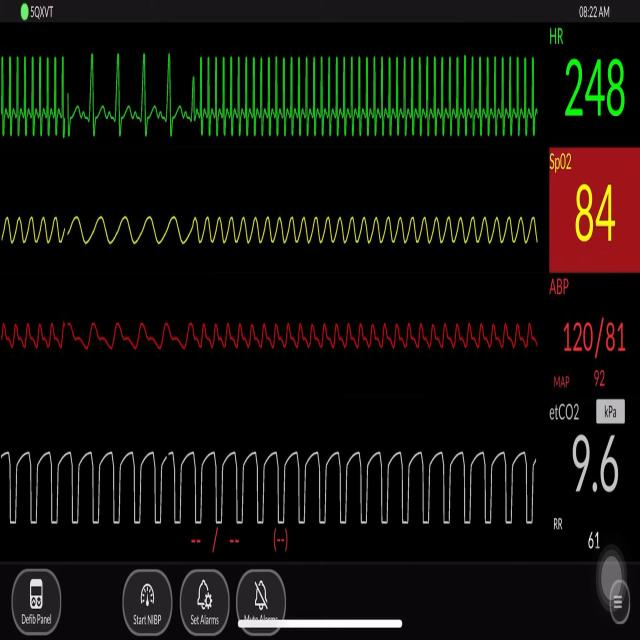danger: (186, 40, 542, 158), (4, 40, 74, 144)
